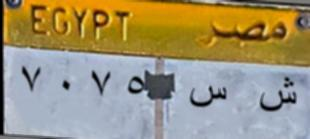0: (55, 70, 78, 101)
5: (124, 74, 145, 99)
7: (14, 62, 45, 96), (87, 68, 113, 100)
seen: (187, 78, 229, 114)
sheen: (252, 73, 300, 119)
